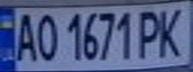1: (60, 9, 81, 61), (115, 8, 136, 60)
6: (78, 9, 100, 61)
7: (97, 8, 118, 61)
A: (9, 9, 39, 62)
K: (154, 3, 190, 59)
O: (33, 9, 57, 62)
P: (136, 7, 166, 60)
